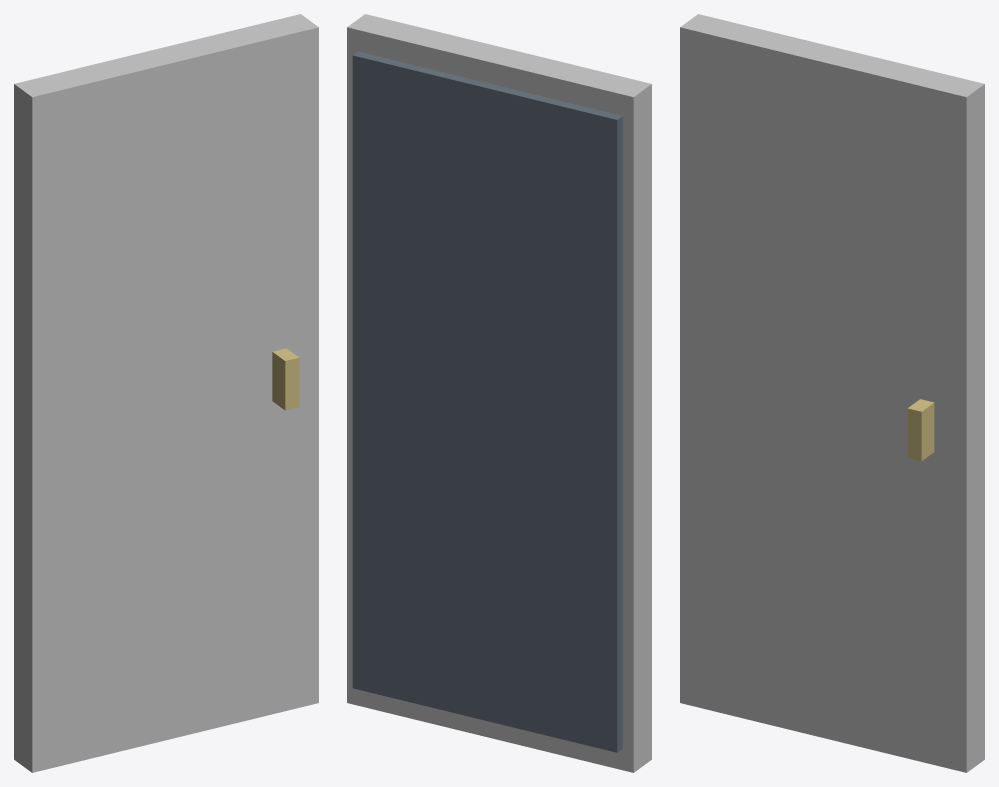
The model's file is puerta_apartamento.glb.
3 renders of one model, left to right at view 1: azimuth 30°, elevation 25°; view 2: azimuth 150°, elevation 25°; view 3: azimuth 330°, elevation 25°, orthographic.
Visible parts, largest first — view 1: puerta_apartamento_00, puerta_apartamento_01; view 2: puerta_apartamento_02, puerta_apartamento_00; view 3: puerta_apartamento_00, puerta_apartamento_01.
Part boxes in pixels (x1=…): puerta_apartamento_00: x1=14, y1=14, x2=318, y2=772; puerta_apartamento_01: x1=272, y1=348, x2=299, y2=410; puerta_apartamento_02: x1=352, y1=51, x2=622, y2=752; puerta_apartamento_00: x1=347, y1=14, x2=651, y2=772; puerta_apartamento_00: x1=680, y1=14, x2=984, y2=772; puerta_apartamento_01: x1=907, y1=399, x2=934, y2=461.
Size of the model in its own units: 0.91 by 2.05 by 0.2.
